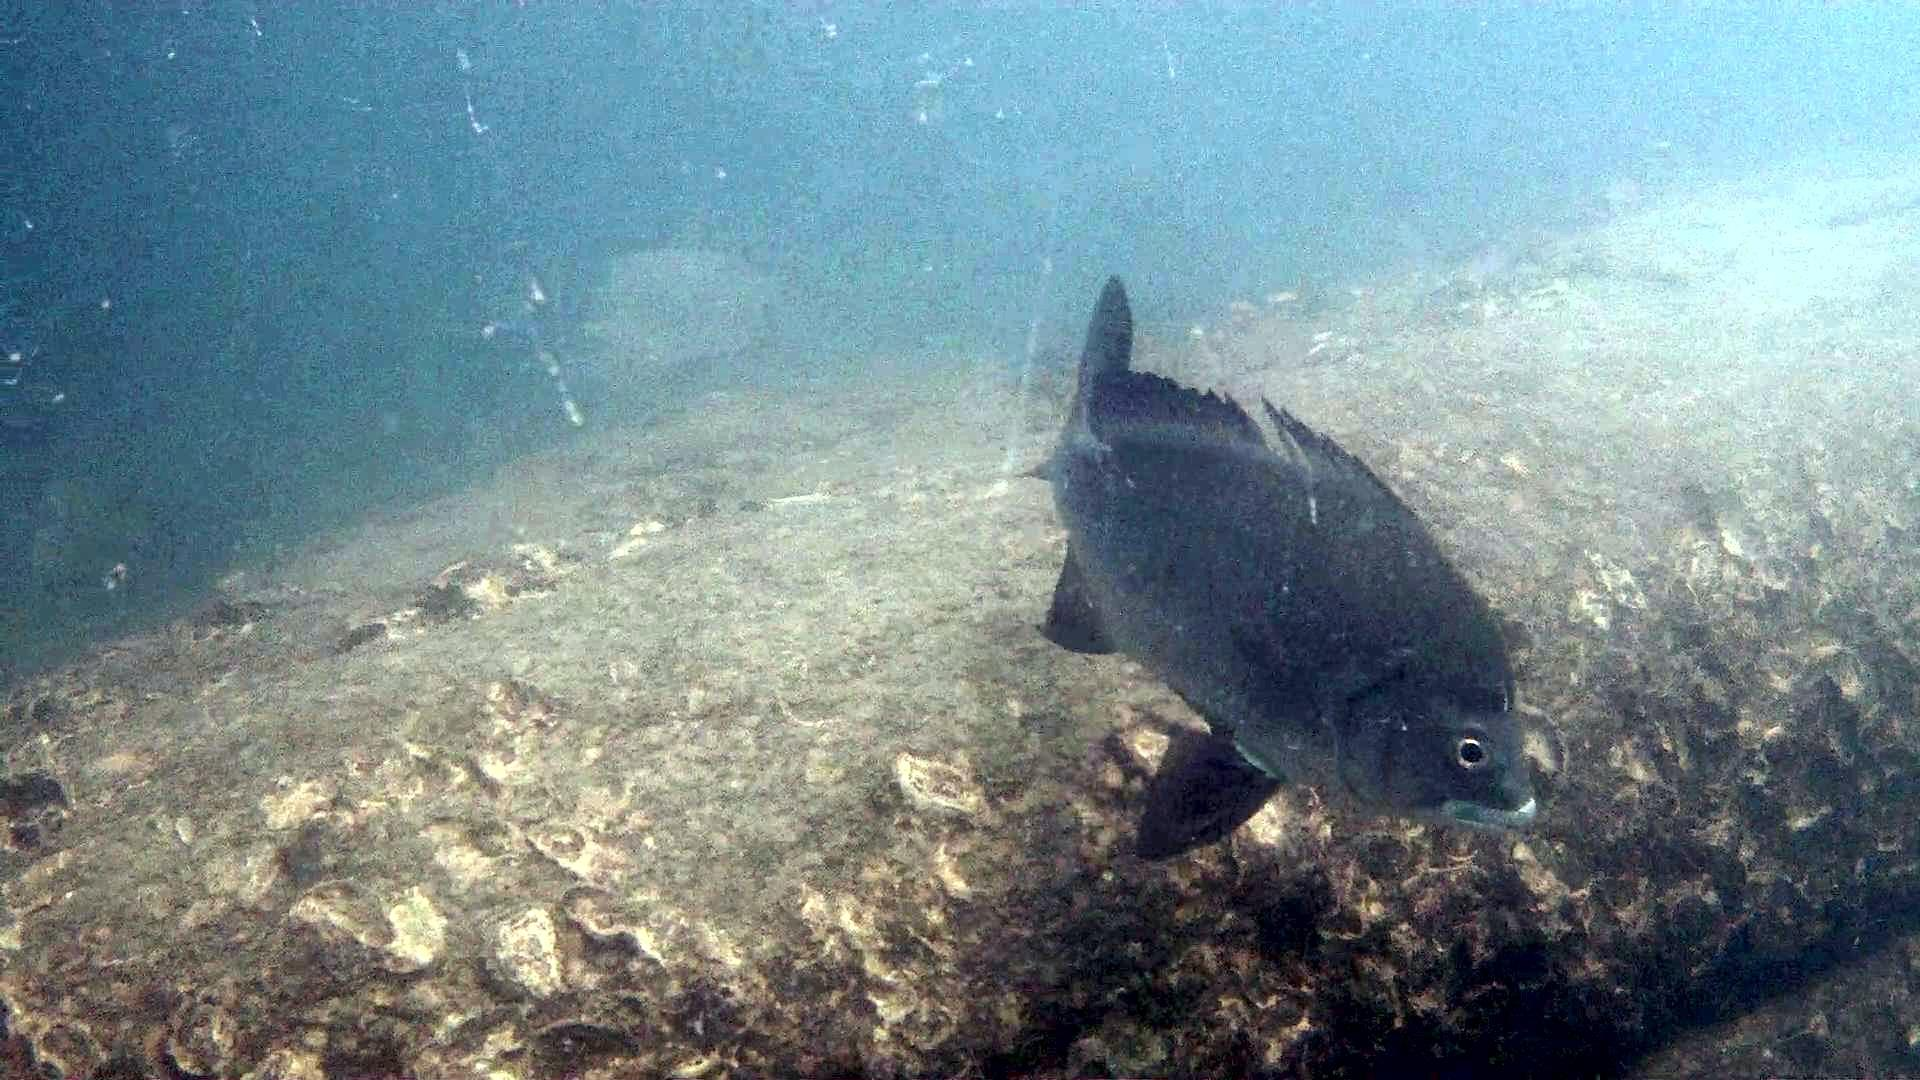acanthopagrus palmaris: (1015, 270, 1543, 869)
